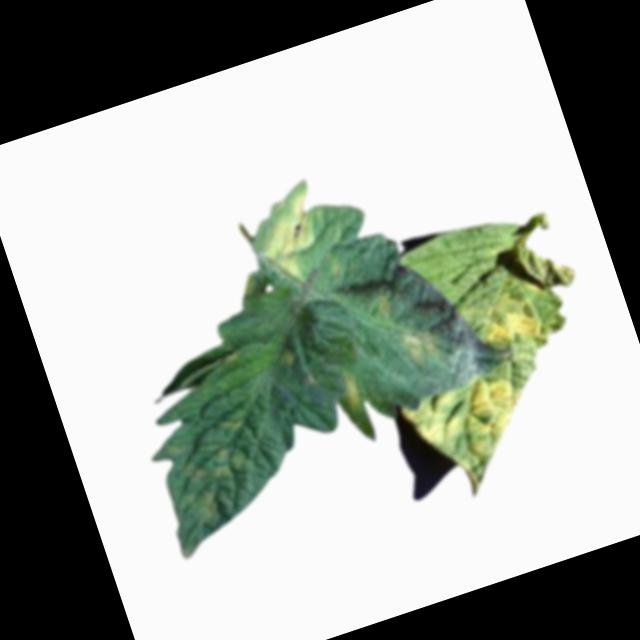Leaf_Mold: (396, 361, 552, 507), (153, 422, 267, 541), (242, 176, 340, 288), (471, 281, 555, 360), (332, 360, 372, 422), (398, 323, 440, 371)
